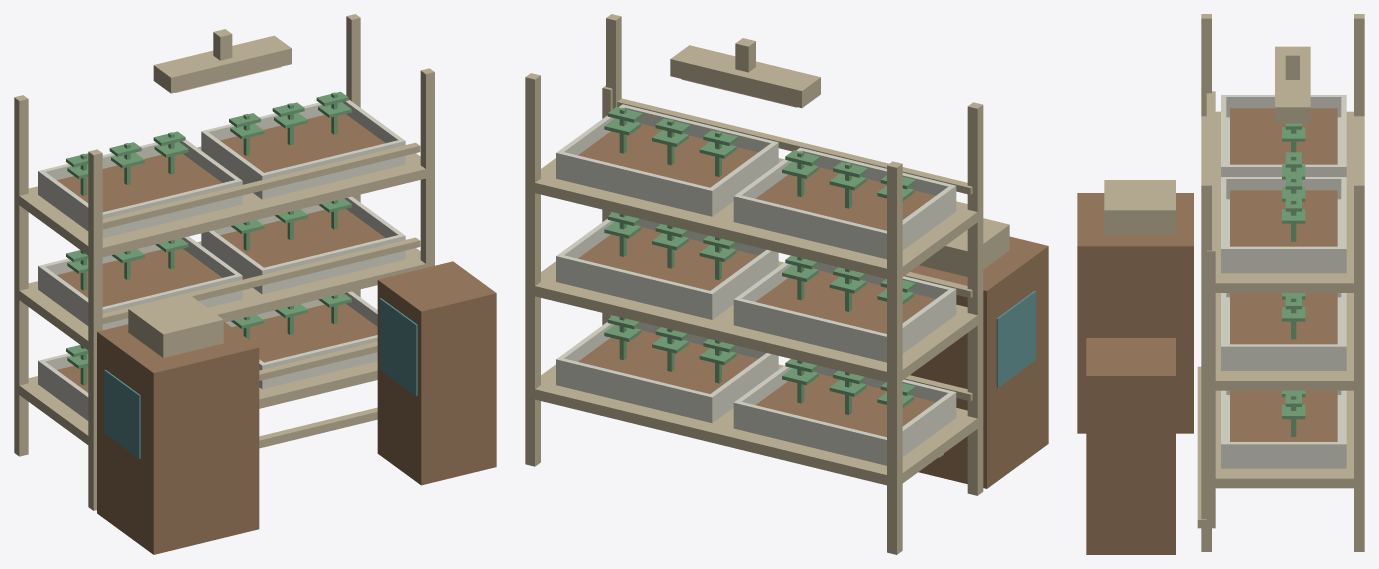
Rendered from family_hydroponics_r001.glb.
The picture shows the model from 3 angles, left to right: view 1: azimuth 30°, elevation 25°; view 2: azimuth 150°, elevation 25°; view 3: azimuth 270°, elevation 25°; orthographic projection. The views are drawn at different scales.
Visible parts, largest first — view 1: G2Q_family_hydroponics_ContainedNutrientCabinet, G2Q_family_hydroponics_LearningPanel, G2Q_family_hydroponics_Shelf2, G2Q_family_hydroponics_Shelf1, G2Q_family_hydroponics_RackPost93.4383.15, G2Q_family_hydroponics_Tray1_1RootMedium, G2Q_family_hydroponics_Tray2_1RootMedium, G2Q_family_hydroponics_Tray0_1RootMedium, G2Q_family_hydroponics_IsolationManifold, G2Q_family_hydroponics_Tray1_0RootMedium, G2Q_family_hydroponics_Tray2_0RootMedium, G2Q_family_hydroponics_RackPost93.4384.0 (+29 smaller); view 2: G2Q_family_hydroponics_ContainedNutrientCabinet, G2Q_family_hydroponics_Shelf2, G2Q_family_hydroponics_Shelf1, G2Q_family_hydroponics_Shelf0, G2Q_family_hydroponics_RackPost93.4383.15, G2Q_family_hydroponics_RackPost93.4384.0, G2Q_family_hydroponics_RackPost95.6383.15, G2Q_family_hydroponics_Tray1_1RootMedium, G2Q_family_hydroponics_Tray0_1RootMedium, G2Q_family_hydroponics_Tray2_1RootMedium, G2Q_family_hydroponics_GrowWorkLightBody, G2Q_family_hydroponics_Tray0_0RootMedium (+35 smaller); view 3: G2Q_family_hydroponics_LearningPanel, G2Q_family_hydroponics_ContainedNutrientCabinet, G2Q_family_hydroponics_Shelf2, G2Q_family_hydroponics_Tray2_1RootMedium, G2Q_family_hydroponics_Tray2_0RootMedium, G2Q_family_hydroponics_Tray1_1RootMedium, G2Q_family_hydroponics_Tray0_1RootMedium, G2Q_family_hydroponics_Shelf0, G2Q_family_hydroponics_RackPost95.6383.15, G2Q_family_hydroponics_IsolationManifold, G2Q_family_hydroponics_Shelf1, G2Q_family_hydroponics_Tray2_1Side1 (+21 smaller).
Part boxes in pixels (box(x1,y1,x2,y2)): G2Q_family_hydroponics_ContainedNutrientCabinet: box(97, 321, 259, 554); G2Q_family_hydroponics_LearningPanel: box(377, 261, 496, 485); G2Q_family_hydroponics_Shelf2: box(14, 146, 431, 257); G2Q_family_hydroponics_Shelf1: box(14, 241, 429, 354); G2Q_family_hydroponics_RackPost93.4383.15: box(14, 95, 28, 456); G2Q_family_hydroponics_Tray1_1RootMedium: box(220, 209, 385, 267); G2Q_family_hydroponics_Tray2_1RootMedium: box(220, 114, 385, 172); G2Q_family_hydroponics_Tray0_1RootMedium: box(232, 303, 377, 362); G2Q_family_hydroponics_IsolationManifold: box(128, 294, 223, 357); G2Q_family_hydroponics_Tray1_0RootMedium: box(57, 248, 222, 306); G2Q_family_hydroponics_Tray2_0RootMedium: box(57, 154, 221, 211); G2Q_family_hydroponics_RackPost93.4384.0: box(88, 149, 102, 510); G2Q_family_hydroponics_ContainedNutrientCabinet: box(910, 236, 1048, 488); G2Q_family_hydroponics_Shelf2: box(525, 158, 982, 281); G2Q_family_hydroponics_Shelf1: box(525, 261, 980, 383); G2Q_family_hydroponics_Shelf0: box(525, 364, 983, 487); G2Q_family_hydroponics_RackPost93.4383.15: box(887, 161, 902, 554); G2Q_family_hydroponics_RackPost93.4384.0: box(967, 102, 983, 495); G2Q_family_hydroponics_RackPost95.6383.15: box(525, 73, 540, 466); G2Q_family_hydroponics_Tray1_1RootMedium: box(578, 227, 757, 290); G2Q_family_hydroponics_Tray0_1RootMedium: box(578, 330, 757, 393); G2Q_family_hydroponics_Tray2_1RootMedium: box(578, 124, 757, 187); G2Q_family_hydroponics_GrowWorkLightBody: box(670, 45, 820, 108); G2Q_family_hydroponics_Tray0_0RootMedium: box(755, 373, 935, 437); G2Q_family_hydroponics_LearningPanel: box(1086, 338, 1175, 554); G2Q_family_hydroponics_ContainedNutrientCabinet: box(1077, 193, 1193, 433); G2Q_family_hydroponics_Shelf2: box(1201, 111, 1364, 292); G2Q_family_hydroponics_Tray2_1RootMedium: box(1230, 190, 1337, 246); G2Q_family_hydroponics_Tray2_0RootMedium: box(1230, 108, 1337, 164); G2Q_family_hydroponics_Tray1_1RootMedium: box(1230, 293, 1337, 344); G2Q_family_hydroponics_Tray0_1RootMedium: box(1230, 390, 1337, 441); G2Q_family_hydroponics_Shelf0: box(1201, 390, 1364, 488); G2Q_family_hydroponics_RackPost95.6383.15: box(1354, 181, 1364, 551); G2Q_family_hydroponics_IsolationManifold: box(1104, 180, 1175, 234); G2Q_family_hydroponics_Shelf1: box(1202, 293, 1364, 390); G2Q_family_hydroponics_Tray2_1Side1: box(1221, 246, 1346, 269).
Size of the model in its own units: 2.31 by 2.55 by 1.6.
